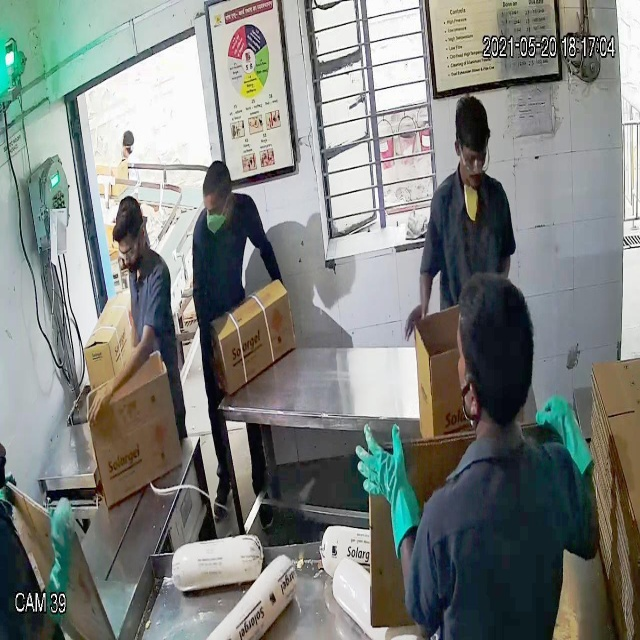Gafas: (453, 137, 498, 180), (114, 235, 143, 272)
